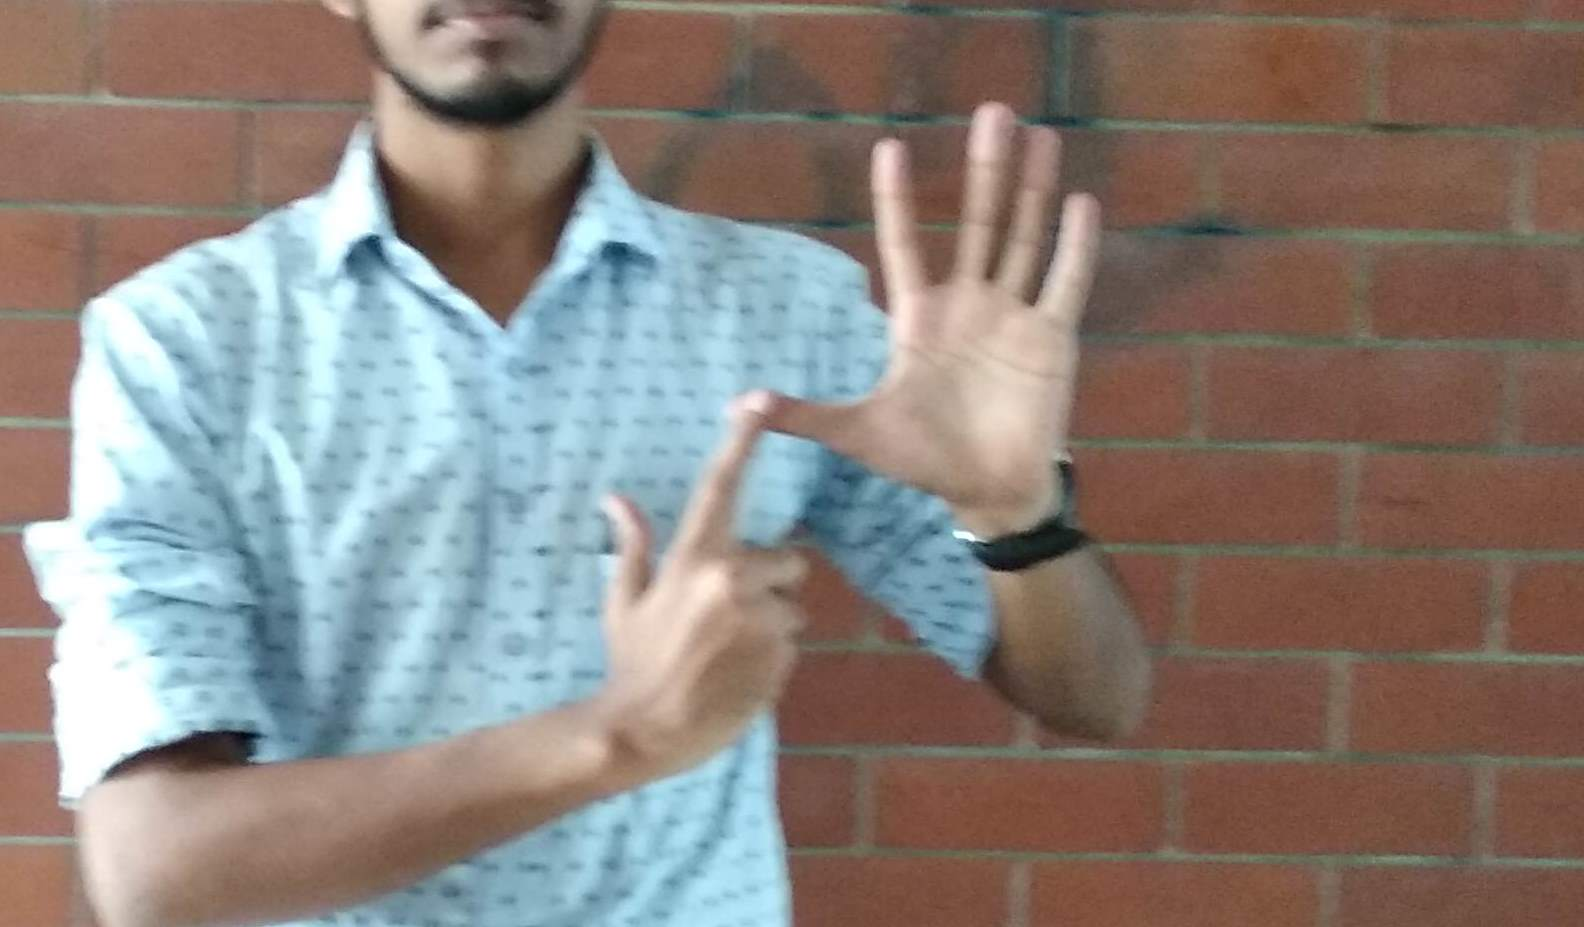a: (595, 163, 1055, 743)
